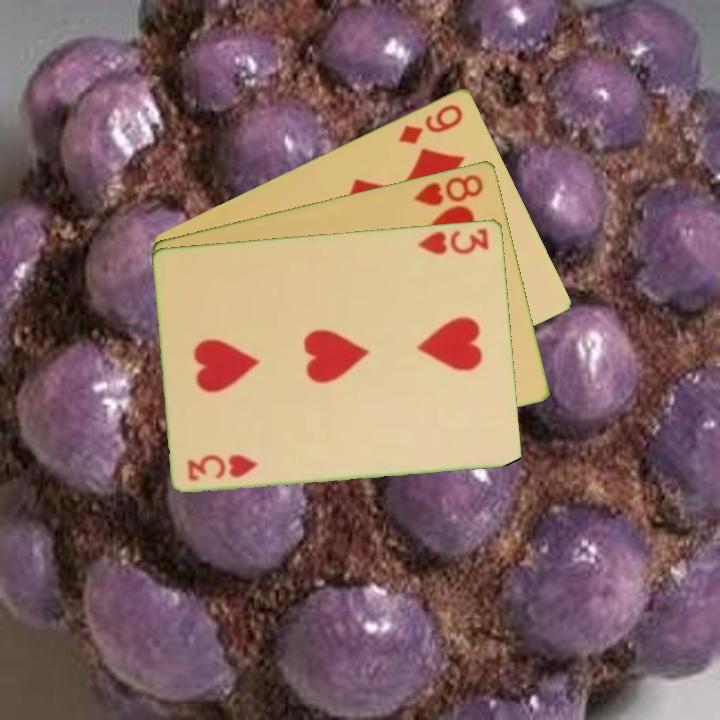3h: (415, 224, 492, 257), (184, 450, 261, 483)
8h: (410, 170, 487, 209)
9d: (395, 100, 466, 147)
